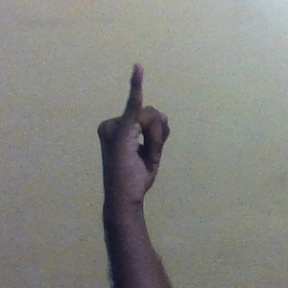I: (96, 60, 173, 197)
